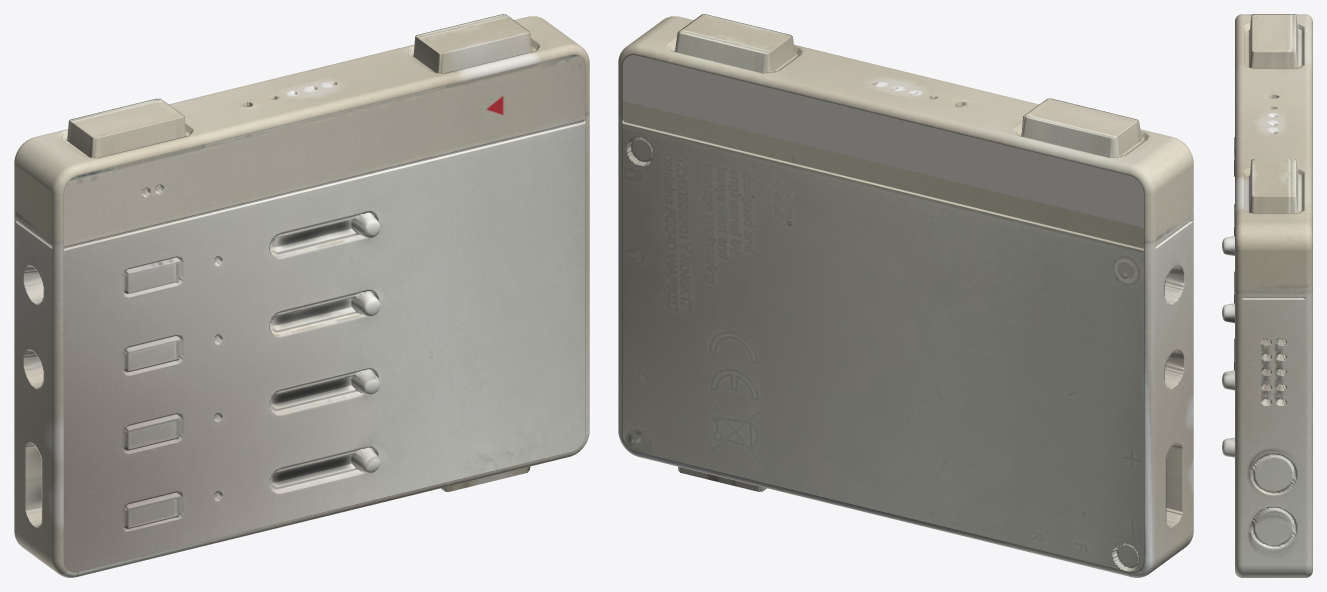
File: sp1_stem_player_photo.glb
The picture shows the model from 3 angles, left to right: view 1: azimuth 30°, elevation 25°; view 2: azimuth 150°, elevation 25°; view 3: azimuth 270°, elevation 25°; orthographic projection. The views are drawn at different scales.
Visible parts, largest first — view 1: SP1_StemPlayer; view 2: SP1_StemPlayer; view 3: SP1_StemPlayer.
Part boxes in pixels (x1,y1,x2,y2): SP1_StemPlayer: (14,14,589,577); SP1_StemPlayer: (618,14,1193,577); SP1_StemPlayer: (1222,14,1312,577).
Bounding box in the file's own units: 0.0641 × 0.0502 × 0.0109.
1 material, 1 textured.
